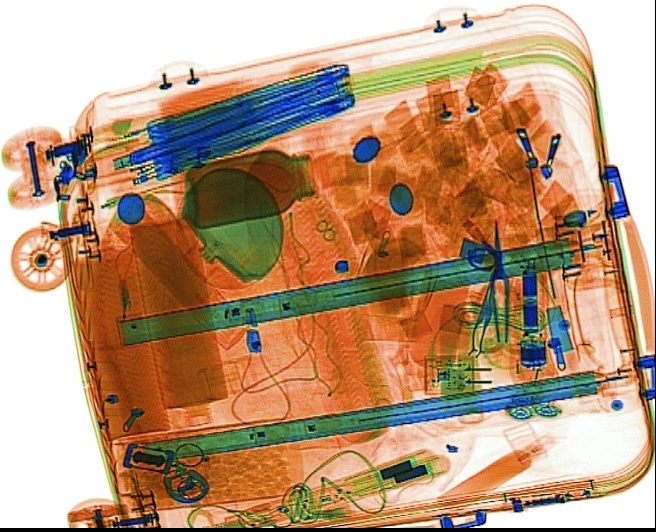scissors: (470, 216, 526, 354)
